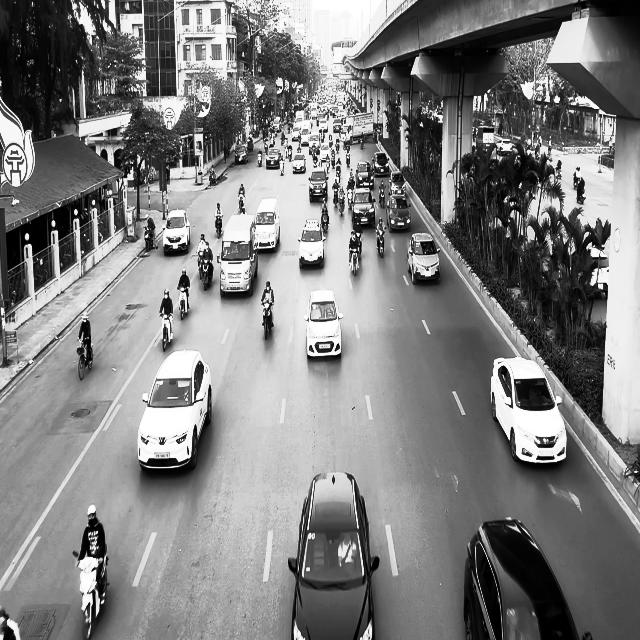car: (463, 516, 593, 640), (288, 471, 379, 640), (137, 348, 212, 472), (490, 356, 567, 465), (304, 288, 344, 358), (406, 232, 441, 284), (297, 218, 326, 269), (253, 198, 280, 252), (162, 208, 190, 256), (386, 194, 412, 232), (352, 188, 376, 227), (308, 168, 328, 202), (356, 161, 374, 190), (388, 171, 406, 196), (372, 152, 389, 175), (266, 147, 281, 169), (292, 152, 306, 173), (234, 145, 248, 164)
motorbike: (72, 547, 109, 639), (77, 341, 94, 380), (261, 300, 274, 340), (160, 312, 173, 351), (178, 286, 190, 320), (144, 225, 158, 251), (349, 244, 360, 276), (375, 226, 386, 258), (576, 180, 586, 203), (238, 193, 246, 215), (215, 215, 222, 238), (378, 187, 385, 207)
